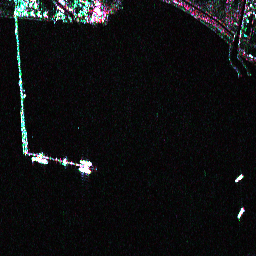ship: (30, 154, 50, 165), (235, 205, 246, 221), (232, 172, 246, 184), (78, 157, 94, 167), (77, 165, 92, 175)
